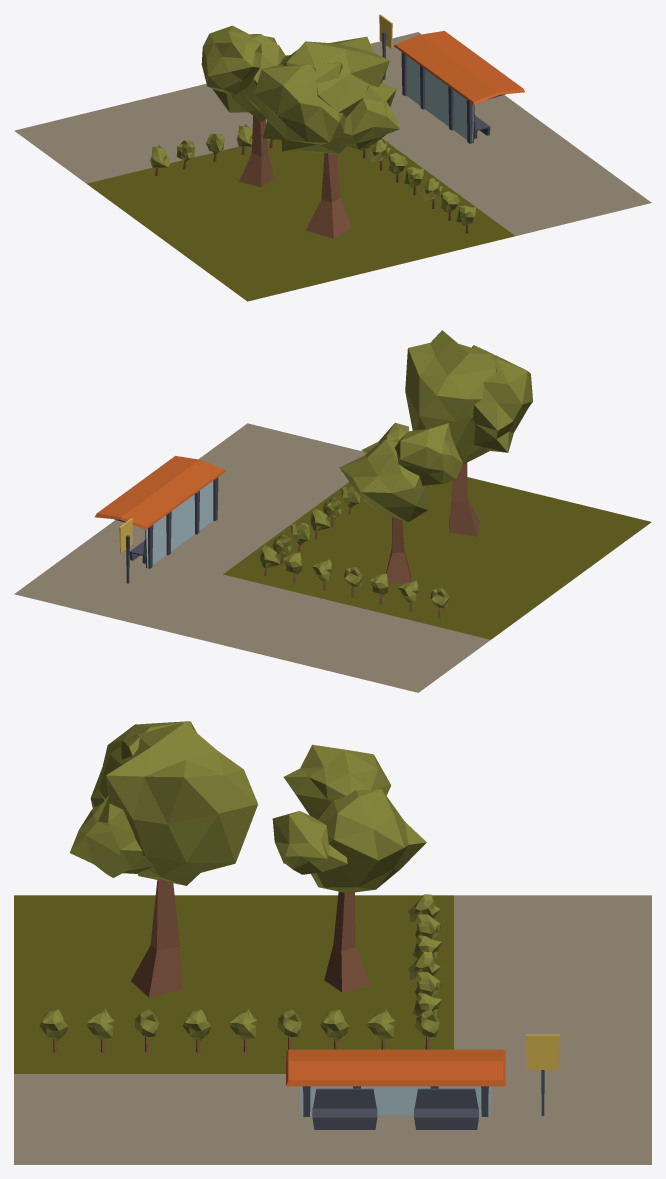
Rendered from Ponto de Onibus.fbx.
3 views of the same model, one above another, from view 1: azimuth 30°, elevation 25°; view 2: azimuth 150°, elevation 25°; view 3: azimuth 270°, elevation 25° (orthographic). The views are drawn at different scales.
Visible parts, largest first — view 1: Ponto de Ônibus; view 2: Ponto de Ônibus; view 3: Ponto de Ônibus.
Part boxes in pixels (x1,y1,x2,y2): Ponto de Ônibus: (14,14,651,301); Ponto de Ônibus: (14,330,651,692); Ponto de Ônibus: (14,721,651,1164).
Size of the model in its own units: 200 by 88.57 by 200.
